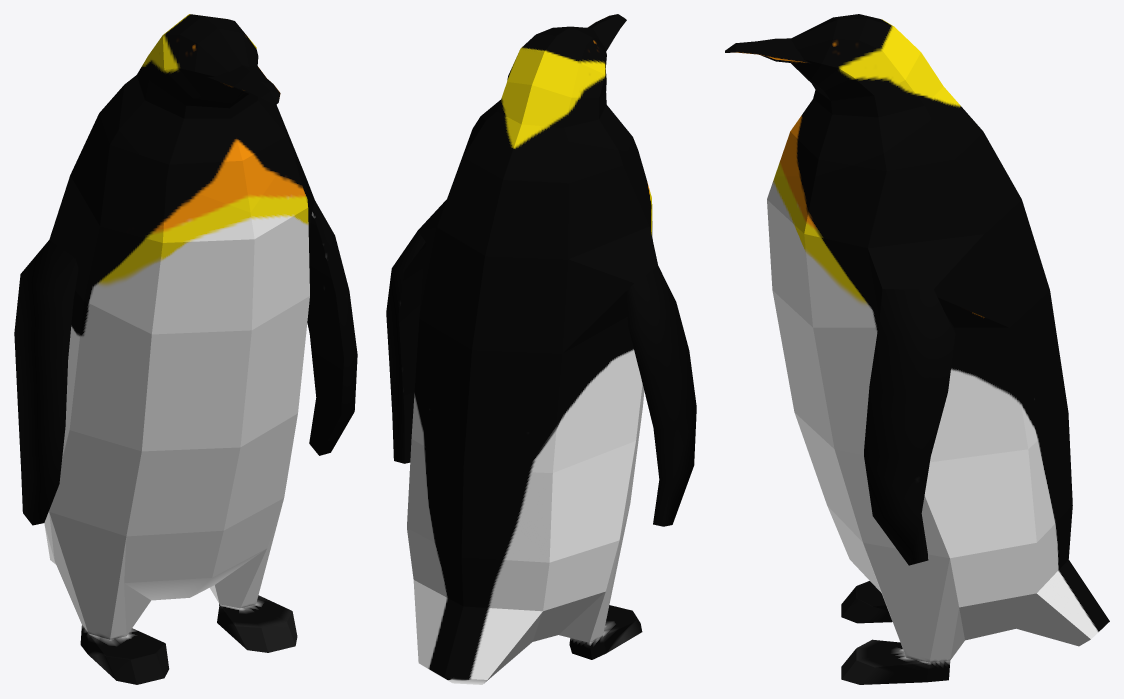
The model's file is penguin.glb.
3 renders of one model, left to right at view 1: azimuth 30°, elevation 25°; view 2: azimuth 150°, elevation 25°; view 3: azimuth 270°, elevation 25°, orthographic. The views are drawn at different scales.
Visible parts, largest first — view 1: Geo_Penguin_Material #47_0; view 2: Geo_Penguin_Material #47_0; view 3: Geo_Penguin_Material #47_0.
Part boxes in pixels (<box>): Geo_Penguin_Material #47_0: <box>14,14,357,684</box>; Geo_Penguin_Material #47_0: <box>386,14,696,684</box>; Geo_Penguin_Material #47_0: <box>725,14,1109,684</box>.
Size of the model in its own units: 33.57 by 66.46 by 37.21.
Materials: 1 (1 with a texture image).
